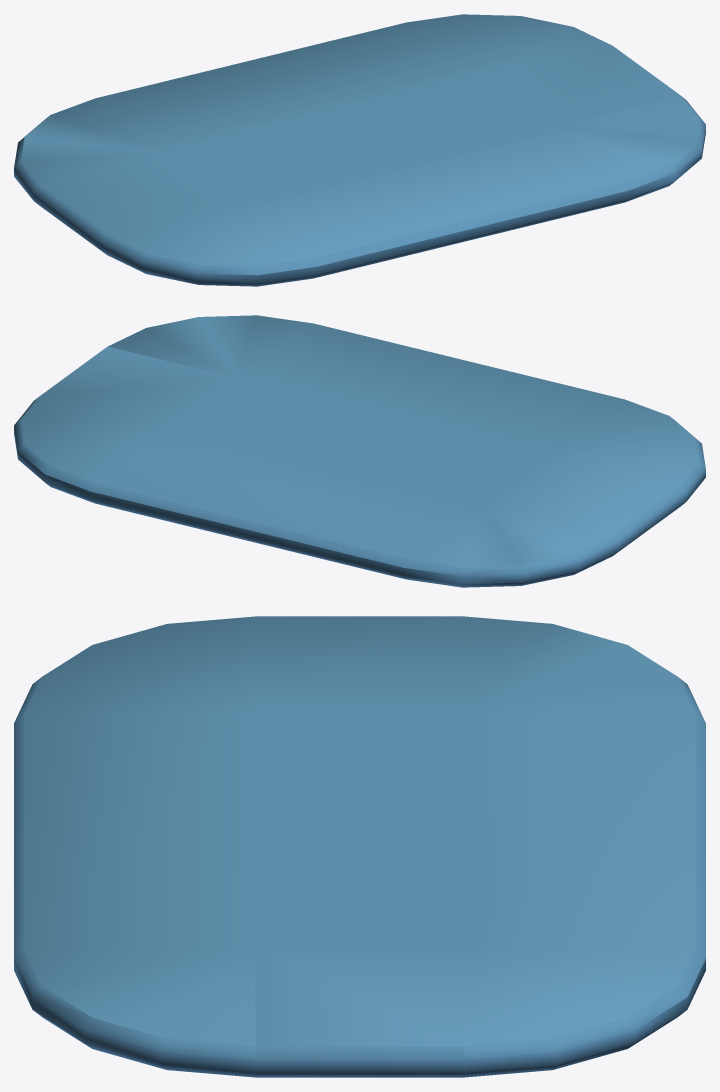
The model's file is rug-oval-b.glb.
3 views of the same model, one above another, from view 1: azimuth 30°, elevation 25°; view 2: azimuth 150°, elevation 25°; view 3: azimuth 270°, elevation 25° (orthographic). The views are drawn at different scales.
Visible parts, largest first — view 1: rug_oval_B; view 2: rug_oval_B; view 3: rug_oval_B.
Part boxes in pixels (x1=…): rug_oval_B: x1=14, y1=14, x2=705, y2=286; rug_oval_B: x1=14, y1=315, x2=705, y2=587; rug_oval_B: x1=14, y1=616, x2=705, y2=1077.
Size of the model in its own units: 3 by 0.1 by 2.
